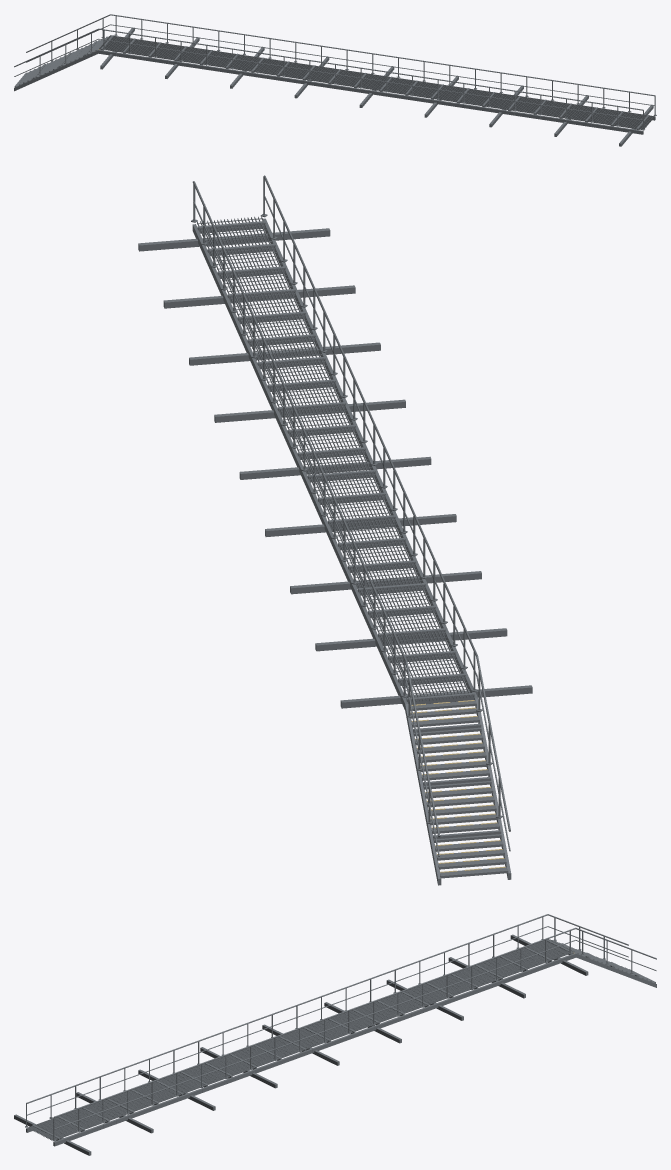
The model's file is BN_T12_UpperWalk.fbx.
3 renders of one model, top to bottom at view 1: azimuth 30°, elevation 25°; view 2: azimuth 150°, elevation 25°; view 3: azimuth 270°, elevation 25°, orthographic. The views are drawn at different scales.
Parts seen in each view (by area): view 1: BN_T12_UpperWalk; view 2: BN_T12_UpperWalk; view 3: BN_T12_UpperWalk.
Boxes of the visible parts, x1,y1,x2,y2 form: BN_T12_UpperWalk: (14,14,656,146); BN_T12_UpperWalk: (138,175,532,885); BN_T12_UpperWalk: (14,914,656,1155).
Size of the model in its own units: 2081 by 362 by 2359.
